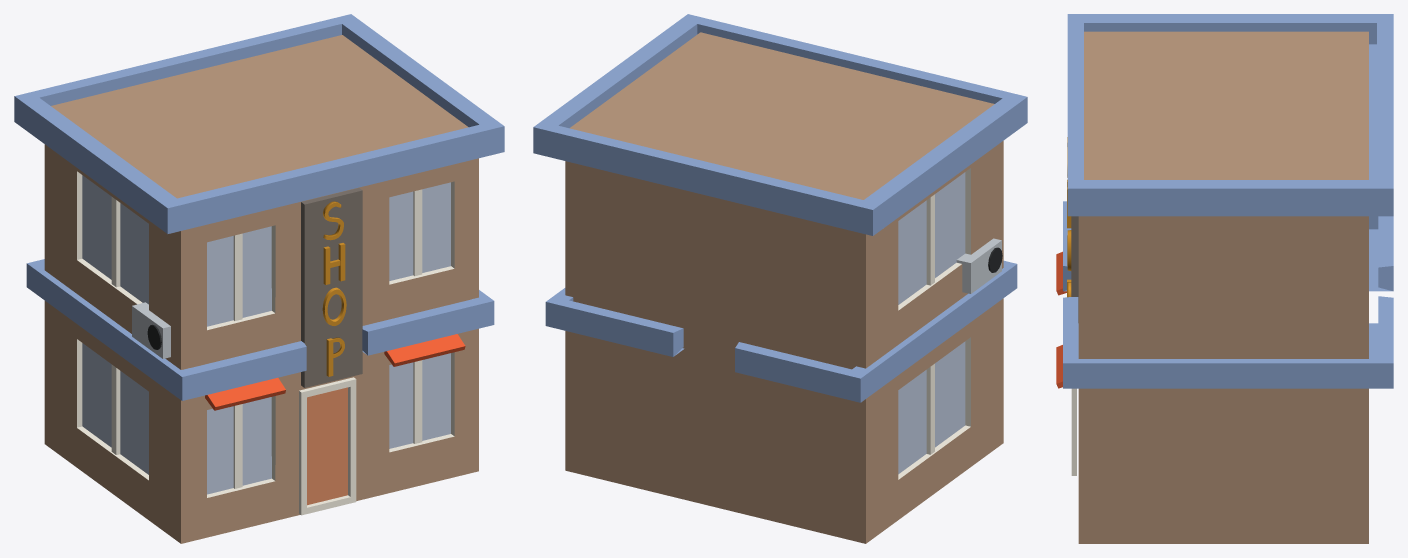
File: shop.fbx
3 renders of one model, left to right at view 1: azimuth 30°, elevation 25°; view 2: azimuth 150°, elevation 25°; view 3: azimuth 270°, elevation 25°, orthographic. The views are drawn at different scales.
Parts seen in each view (by area): view 1: polySurface409; view 2: polySurface409; view 3: polySurface409.
Boxes of the visible parts, x1,y1,x2,y2 form: polySurface409: (14, 14, 504, 543); polySurface409: (533, 14, 1027, 543); polySurface409: (1056, 14, 1393, 543).
Size of the model in its own units: 3.49 by 3.41 by 2.85.
